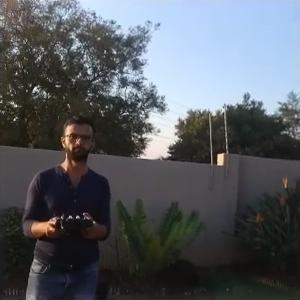follow: (17, 114, 114, 298)
